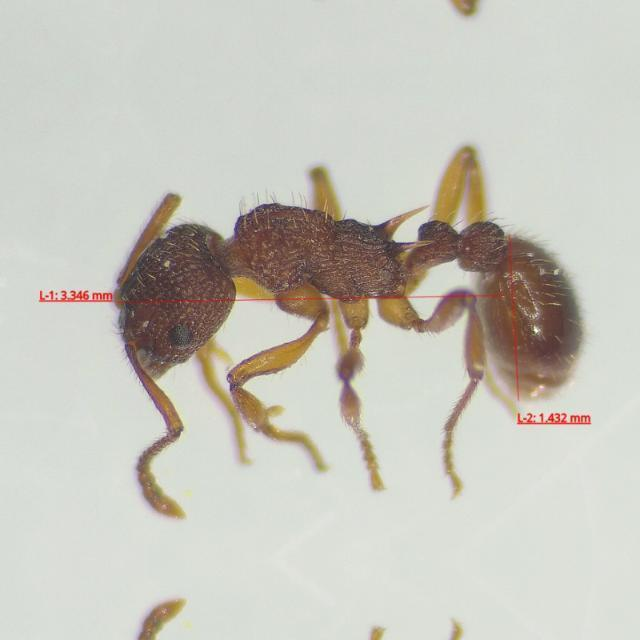Myrmica: (81, 170, 634, 474)
